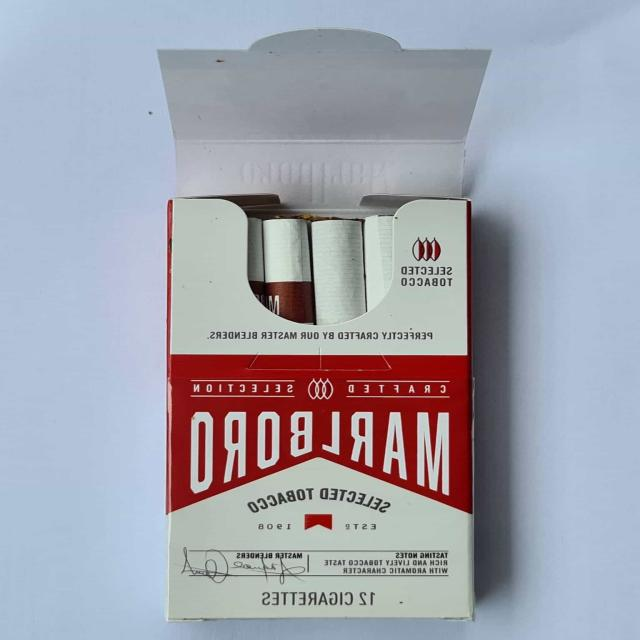marlboro: (135, 56, 498, 628)
